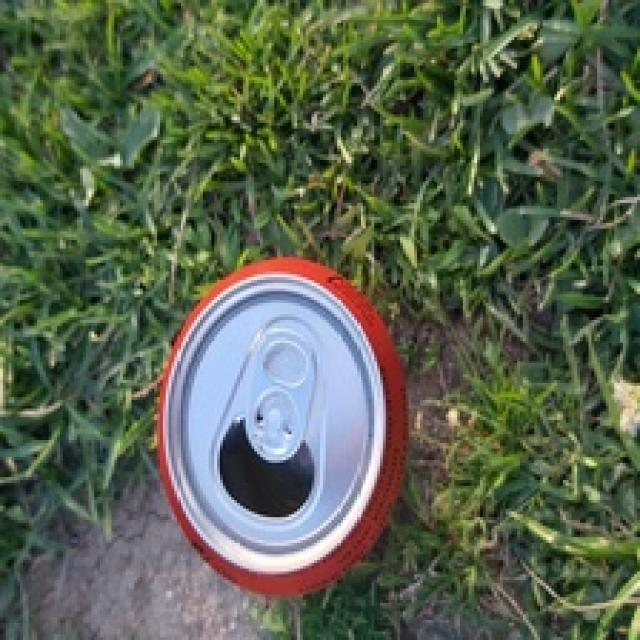recyclable: (156, 257, 408, 596)
